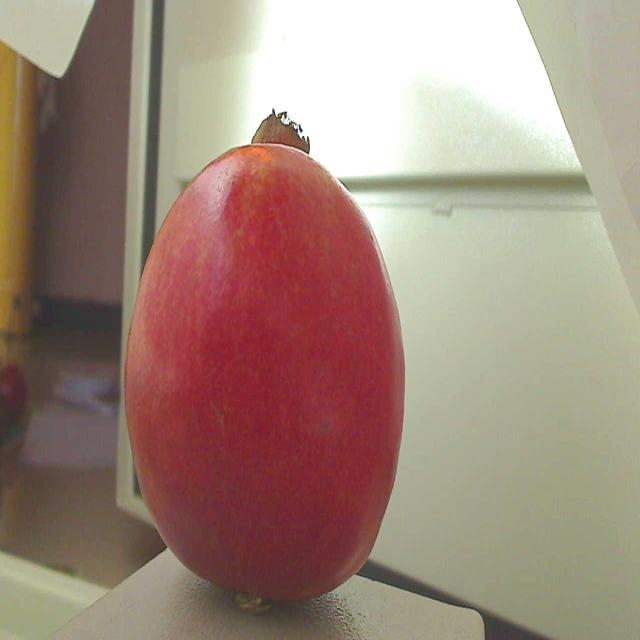pomegranate: (112, 98, 414, 627)
